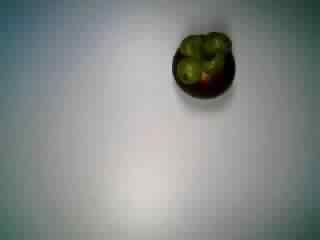mangosteen: (165, 28, 239, 102)
